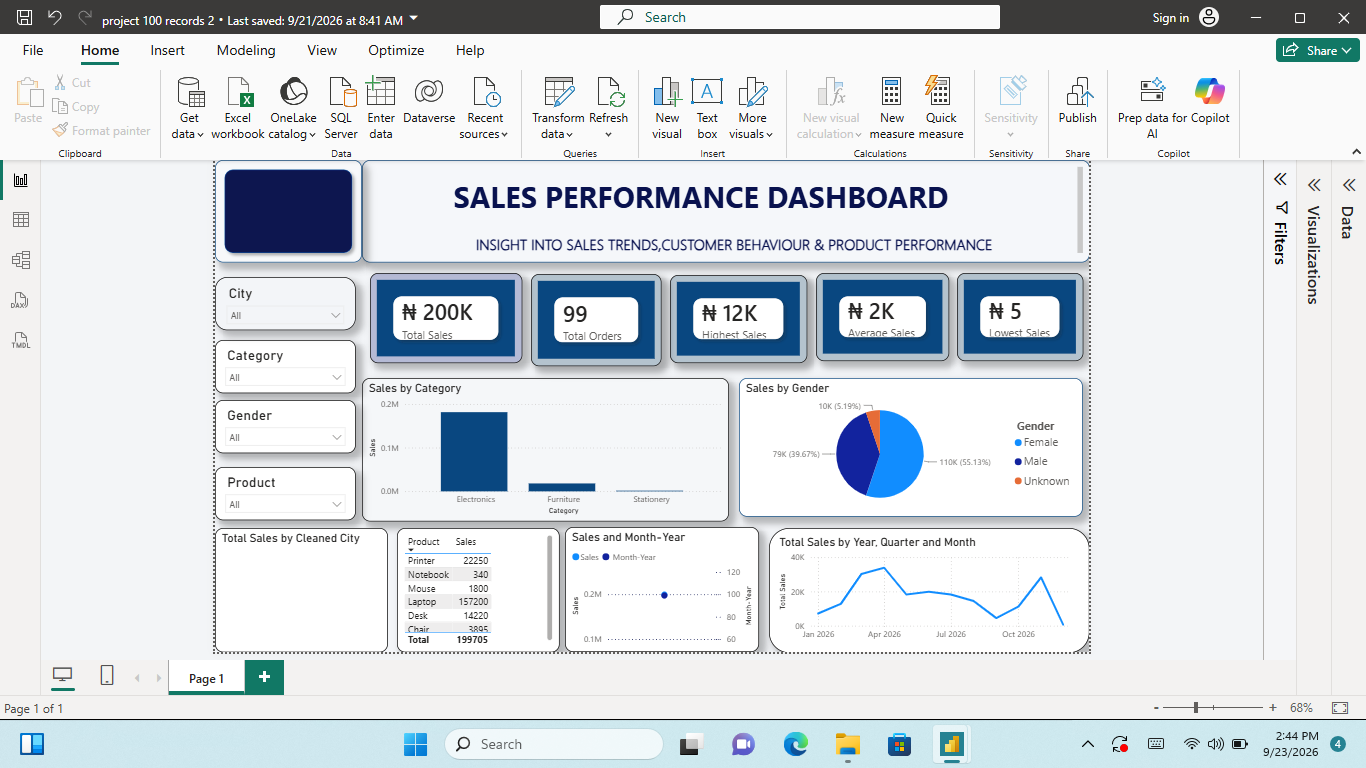

The page's visual inventory and layout, read from the dashboard file:
{"tool":"powerbi","page":{"name":"Page 1","canvas":[1280,720],"ordinal":0},"visuals":[{"type":"cardVisual","fields":{"Data":["POWER BI DATA.Average Sales"]},"box":[879.4,166.1,195.3,128.9],"z":0},{"type":"cardVisual","fields":{"Data":["POWER BI DATA.Lowest Sales"]},"box":[1085.3,166.1,184.6,128.9],"z":1000},{"type":"cardVisual","fields":{"Data":["POWER BI DATA.Total Orders"]},"box":[462.5,166.5,191.3,134.9],"z":2000},{"type":"cardVisual","fields":{"Data":["POWER BI DATA.Highest Sales"]},"box":[665.5,168.7,200.6,128.9],"z":3000},{"type":"clusteredColumnChart","fields":{"Y":["POWER BI DATA.Total Sales"],"Category":["POWER BI DATA.Cleaned Category"]},"box":[215.2,318.8,536.7,209.9],"z":4000},{"type":"tableEx","fields":{"Values":["POWER BI DATA.Cleaned Product","POWER BI DATA.Total Sales"]},"box":[265.6,538.2,238.1,181.7],"z":5000},{"type":"pieChart","fields":{"Category":["POWER BI DATA.Cleaned Gender"],"Y":["POWER BI DATA.Total Sales"]},"box":[766.5,318.8,503.5,203.2],"z":6000},{"type":"lineChart","fields":{"Y":["POWER BI DATA.Total Sales"],"Y2":["CountNonNull(POWER BI DATA.Month-Year)"]},"box":[512.3,537.5,283.9,183.1],"z":7000},{"type":"slicer","fields":{"Values":["POWER BI DATA.Cleaned Category"]},"box":[0,262.9,206.5,78.5],"z":8000},{"type":"slicer","fields":{"Values":["POWER BI DATA.Cleaned City"]},"box":[0,170.7,206.5,78.5],"z":9000},{"type":"slicer","fields":{"Values":["POWER BI DATA.Cleaned Gender"]},"box":[0,351,206.5,78.5],"z":10000},{"type":"slicer","fields":{"Values":["POWER BI DATA.Cleaned Product"]},"box":[0,448.7,206.5,78.5],"z":11000},{"type":"textbox","box":[214.7,0,1065.3,150],"z":12000},{"type":"lineChart","fields":{"Y":["POWER BI DATA.Total Sales"],"Category":["POWER BI DATA.Cleaned OrderDate.Variation.Date Hierarchy.Year","POWER BI DATA.Cleaned OrderDate.Variation.Date Hierarchy.Quarter","POWER BI DATA.Cleaned OrderDate.Variation.Date Hierarchy.Month","POWER BI DATA.Cleaned OrderDate.Variation.Date Hierarchy.Day"]},"box":[810.7,538.2,469.3,183.1],"z":13000},{"type":"shape","box":[0,0,214.7,150],"z":14000},{"type":"cardVisual","fields":{"Data":["POWER BI DATA.Total Sales"]},"box":[227.1,165.2,223,132.1],"z":15000},{"type":"map","fields":{"Category":["POWER BI DATA.Cleaned City"],"Size":["POWER BI DATA.Total Sales"]},"box":[0,538.2,253.2,181.7],"z":16000}]}

Visuals, with their boxes on the page's 1280x720 design canvas (x1, y1, x2, y2). These are canvas units, not pixel positions in the 1366x768 screenshot, which may show the page scaled, cropped or inside an application window:
cardVisual - POWER BI DATA.Average Sales: box=[879, 166, 1075, 295]
cardVisual - POWER BI DATA.Lowest Sales: box=[1085, 166, 1270, 295]
cardVisual - POWER BI DATA.Total Orders: box=[462, 166, 654, 301]
cardVisual - POWER BI DATA.Highest Sales: box=[666, 169, 866, 298]
clusteredColumnChart - POWER BI DATA.Total Sales x POWER BI DATA.Cleaned Category: box=[215, 319, 752, 529]
tableEx - POWER BI DATA.Cleaned Product x POWER BI DATA.Total Sales: box=[266, 538, 504, 720]
pieChart - POWER BI DATA.Cleaned Gender x POWER BI DATA.Total Sales: box=[766, 319, 1270, 522]
lineChart - POWER BI DATA.Total Sales x CountNonNull(POWER BI DATA.Month-Year): box=[512, 538, 796, 721]
slicer - POWER BI DATA.Cleaned Category: box=[0, 263, 206, 341]
slicer - POWER BI DATA.Cleaned City: box=[0, 171, 206, 249]
slicer - POWER BI DATA.Cleaned Gender: box=[0, 351, 206, 430]
slicer - POWER BI DATA.Cleaned Product: box=[0, 449, 206, 527]
textbox: box=[215, 0, 1280, 150]
lineChart - POWER BI DATA.Total Sales x POWER BI DATA.Cleaned OrderDate.Variation.Date Hierarchy.Year: box=[811, 538, 1280, 721]
shape: box=[0, 0, 215, 150]
cardVisual - POWER BI DATA.Total Sales: box=[227, 165, 450, 297]
map - POWER BI DATA.Cleaned City x POWER BI DATA.Total Sales: box=[0, 538, 253, 720]
